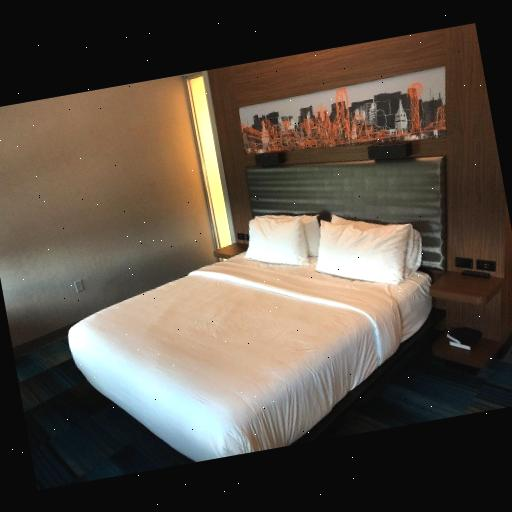clean_bed: (67, 156, 442, 463)
organised_pillow: (242, 214, 423, 285)
